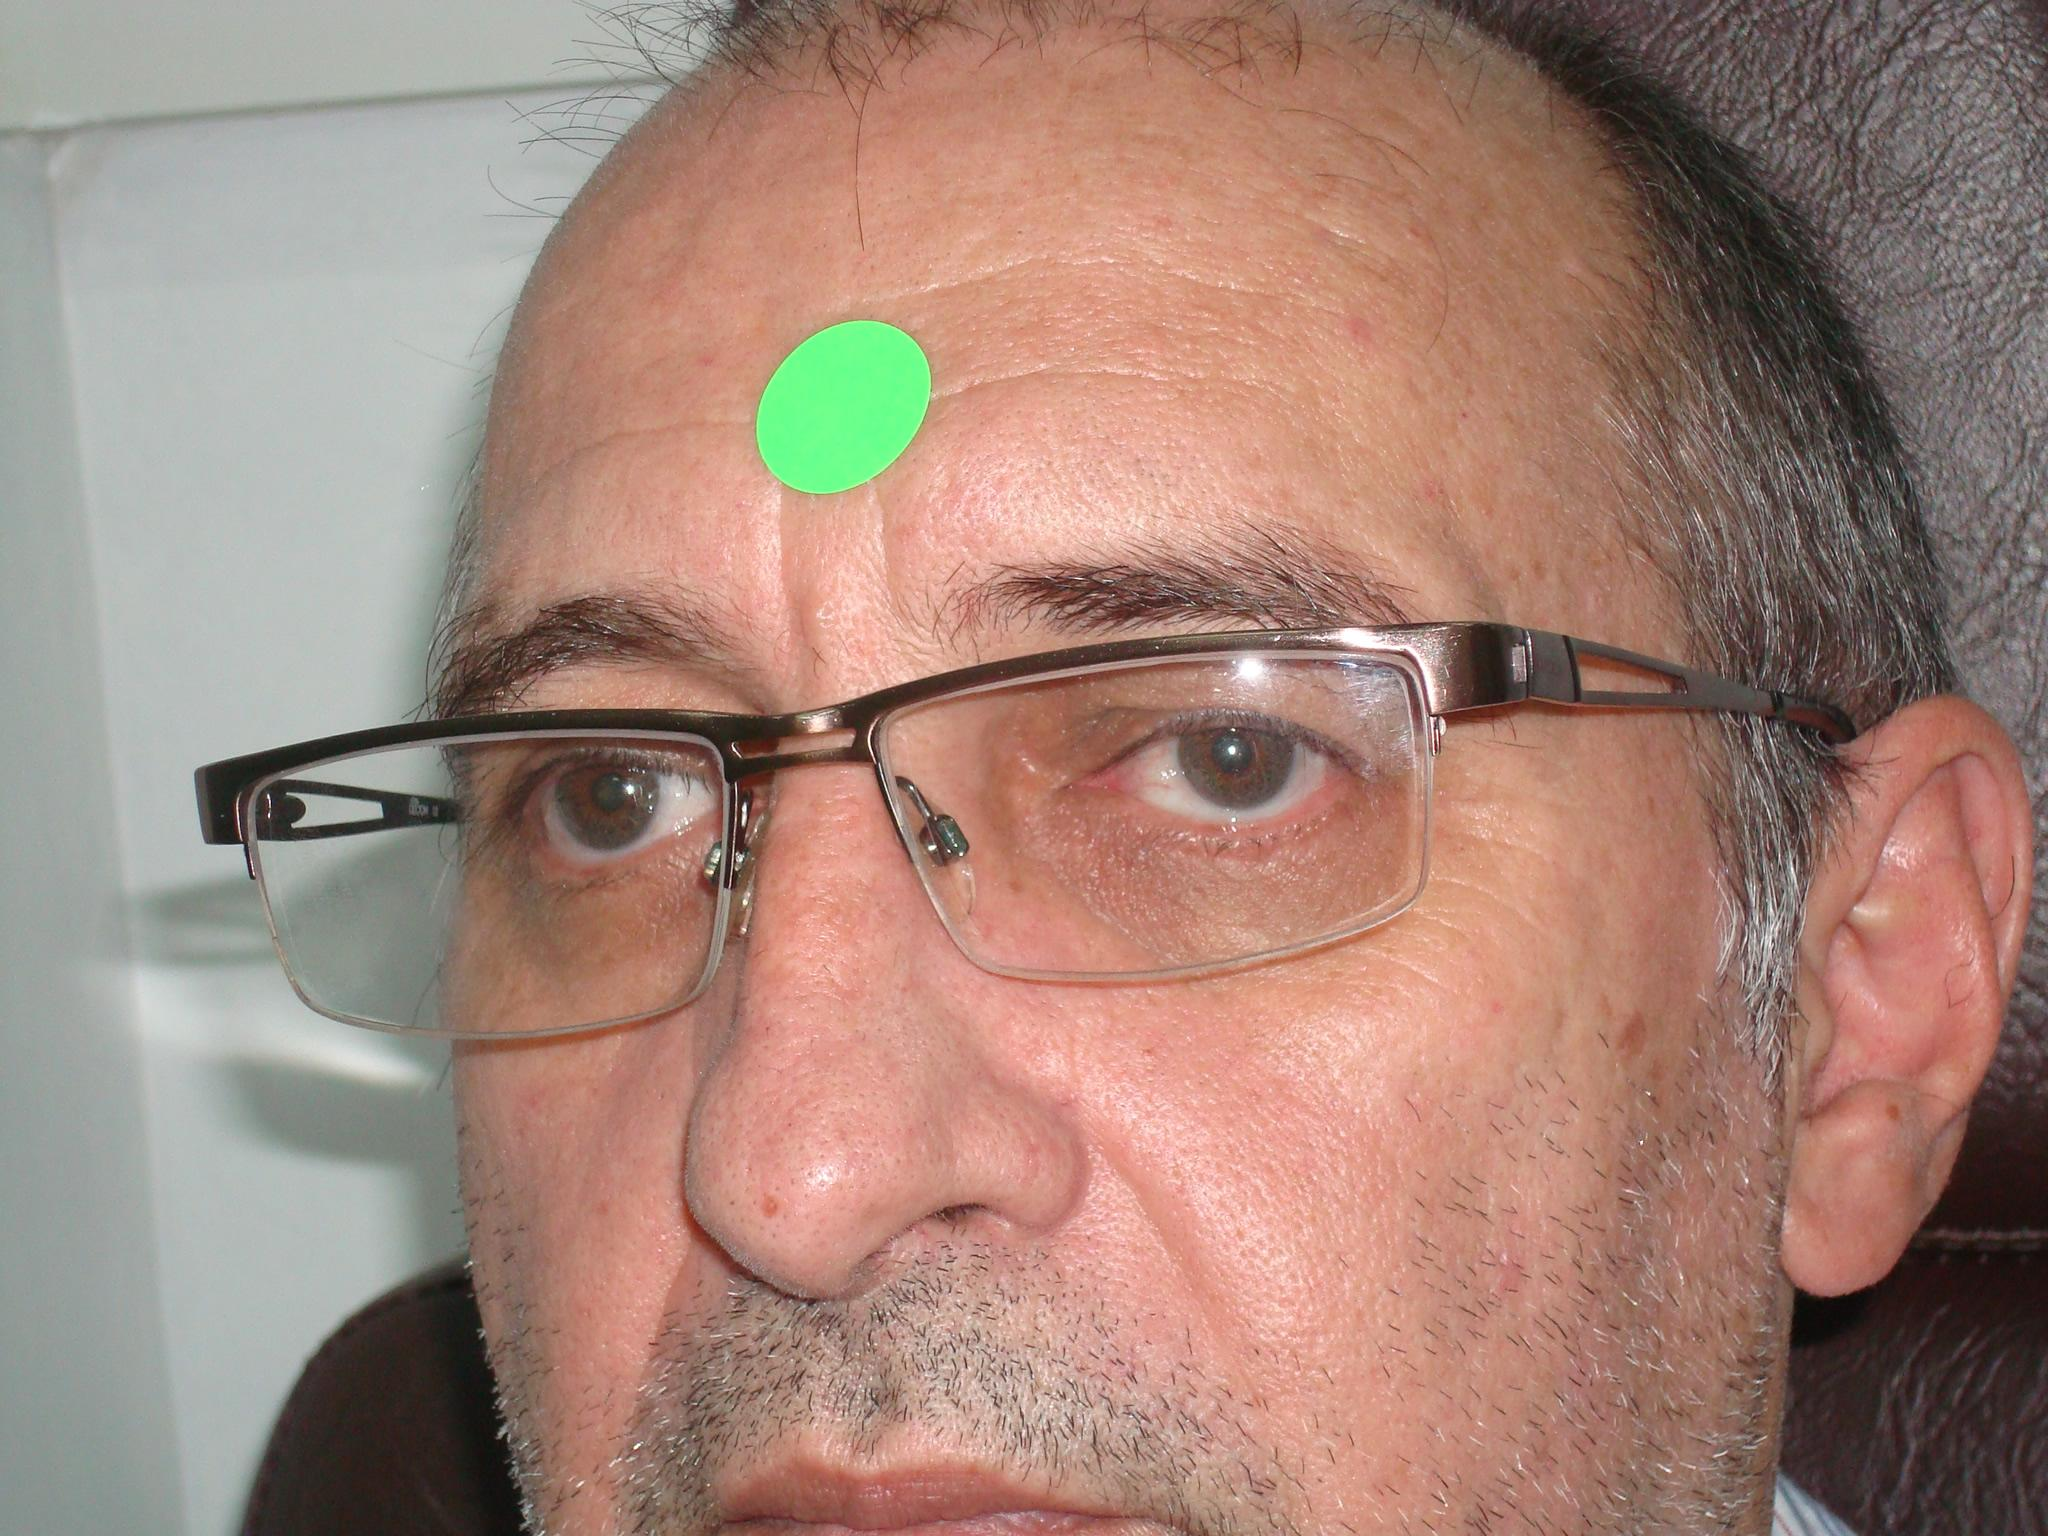flash: (1221, 737, 1243, 762), (622, 781, 639, 797)
limbo: (1174, 708, 1290, 800), (560, 739, 658, 841)
